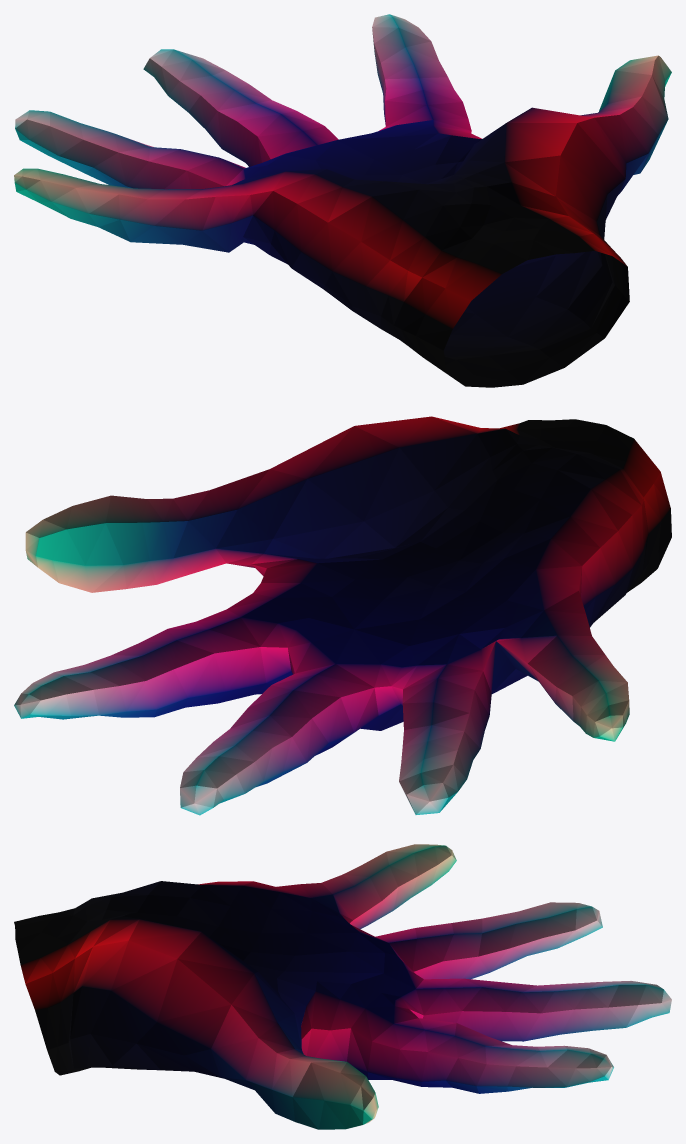
The model's file is hand_proj_uvs.fbx.
3 views of the same model, one above another, from view 1: azimuth 30°, elevation 25°; view 2: azimuth 150°, elevation 25°; view 3: azimuth 270°, elevation 25° (orthographic). The views are drawn at different scales.
Parts seen in each view (by area): view 1: unnamed; view 2: unnamed; view 3: unnamed.
Part boxes in pixels (x1,y1,x2,y2): unnamed: [14, 14, 671, 387]; unnamed: [14, 416, 671, 815]; unnamed: [14, 844, 671, 1129].
Size of the model in its own units: 17.74 by 5.14 by 19.22.
